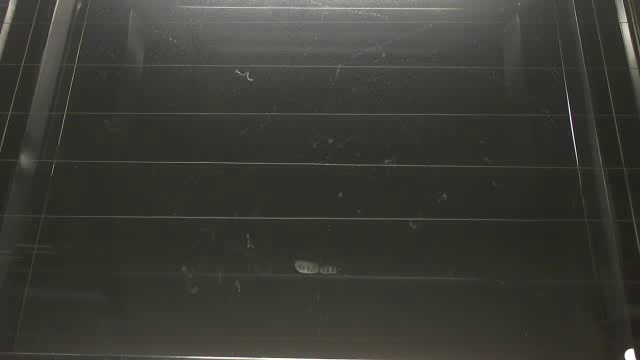Alfa: (291, 255, 339, 280)
